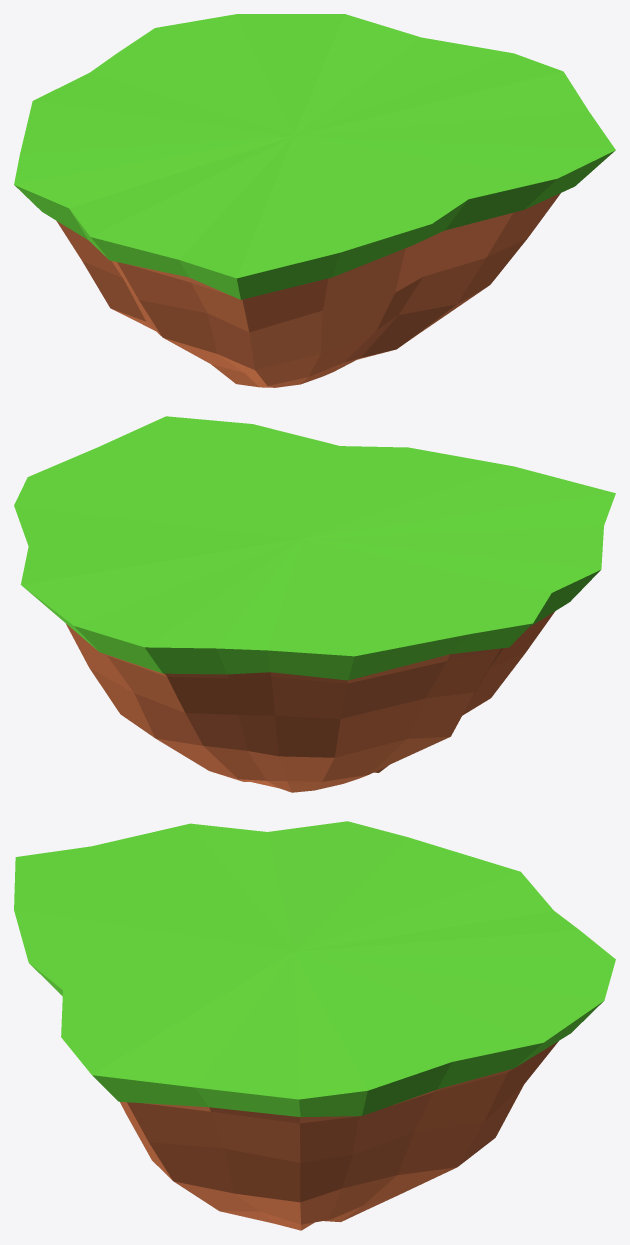
File: Island1.fbx
3 renders of one model, top to bottom at view 1: azimuth 30°, elevation 25°; view 2: azimuth 150°, elevation 25°; view 3: azimuth 270°, elevation 25°, orthographic. The views are drawn at different scales.
Parts seen in each view (by area): view 1: Island 1; view 2: Island 1; view 3: Island 1.
Boxes of the visible parts, <box> form: Island 1: <box>14,14,615,387</box>; Island 1: <box>14,416,615,792</box>; Island 1: <box>14,821,615,1230</box>.
Size of the model in its own units: 1044 by 425 by 951.
